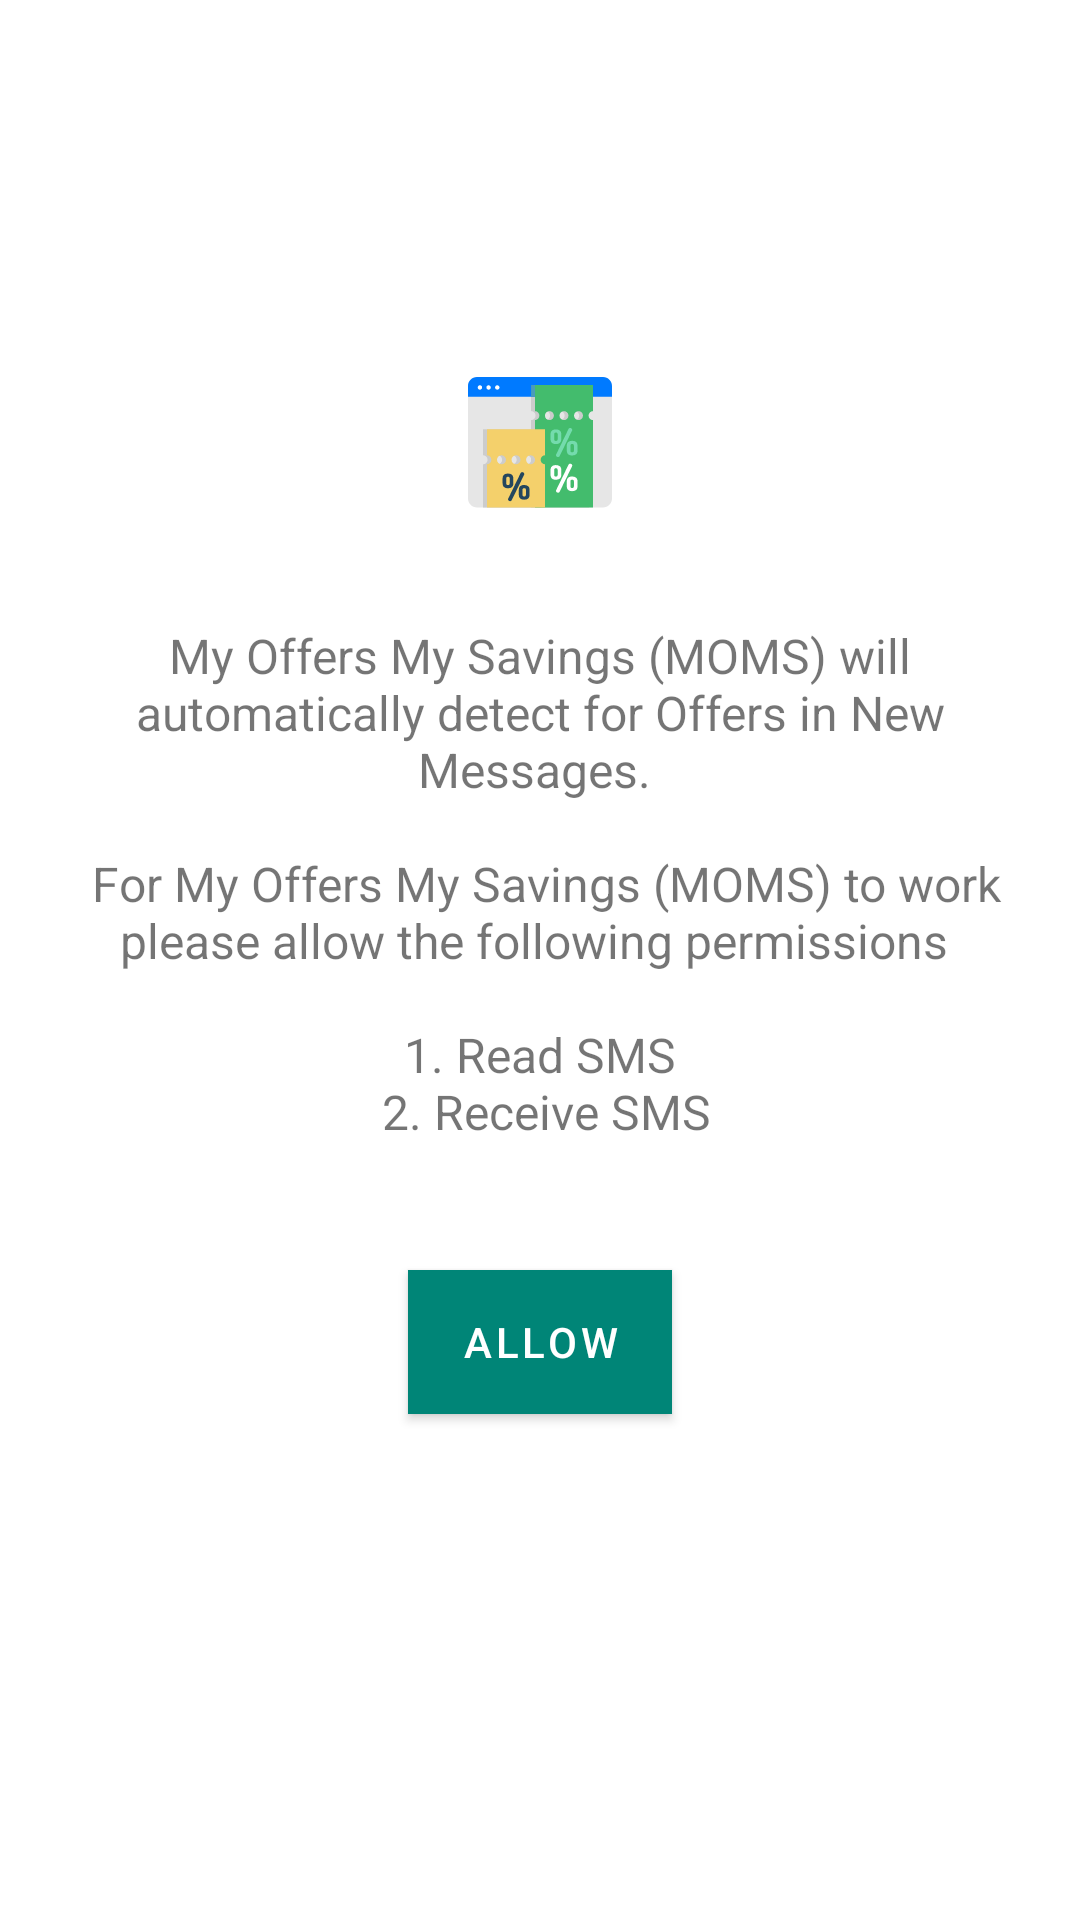

Icon bounding boxes for this 1080 x 1920 phone screenshot, format region(x1, y1, x2, y2):
coupon: region(468, 377, 612, 508)
